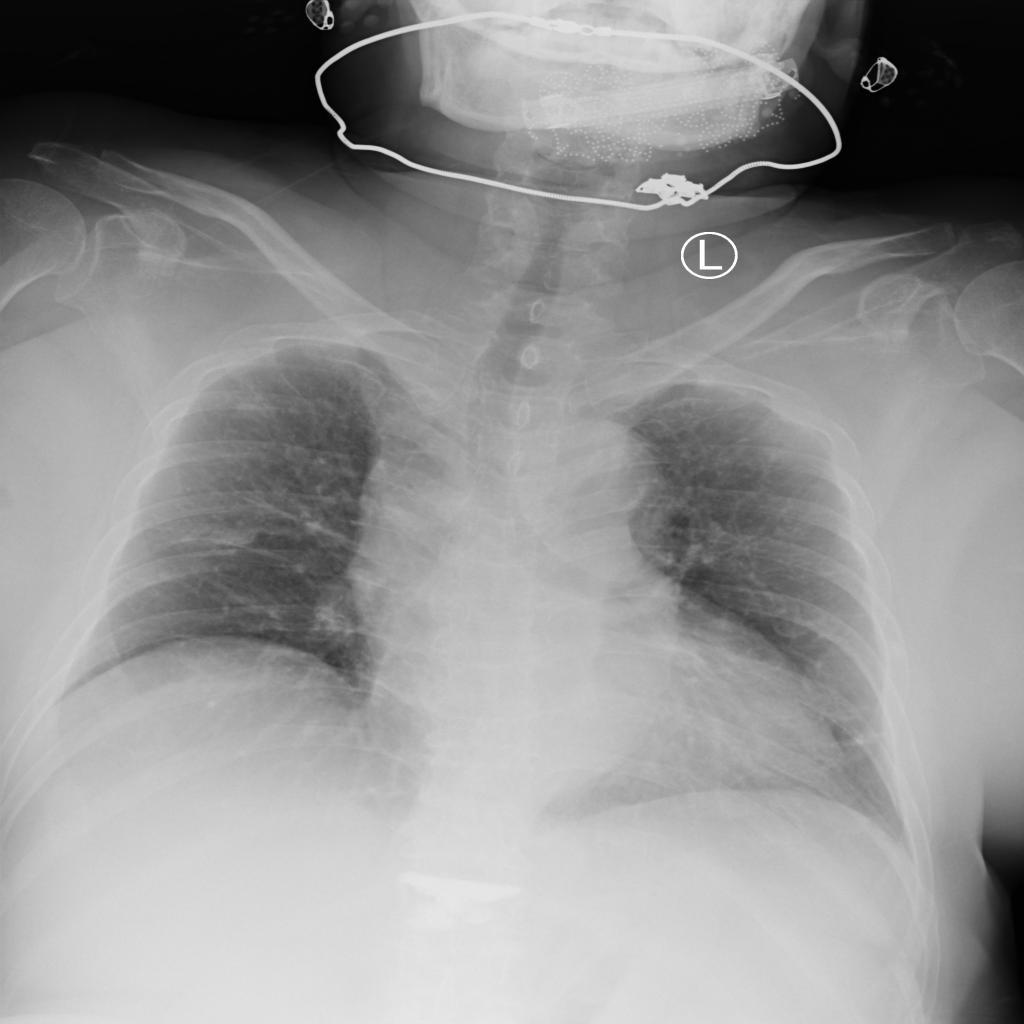Nodule: (787, 638, 872, 749)
